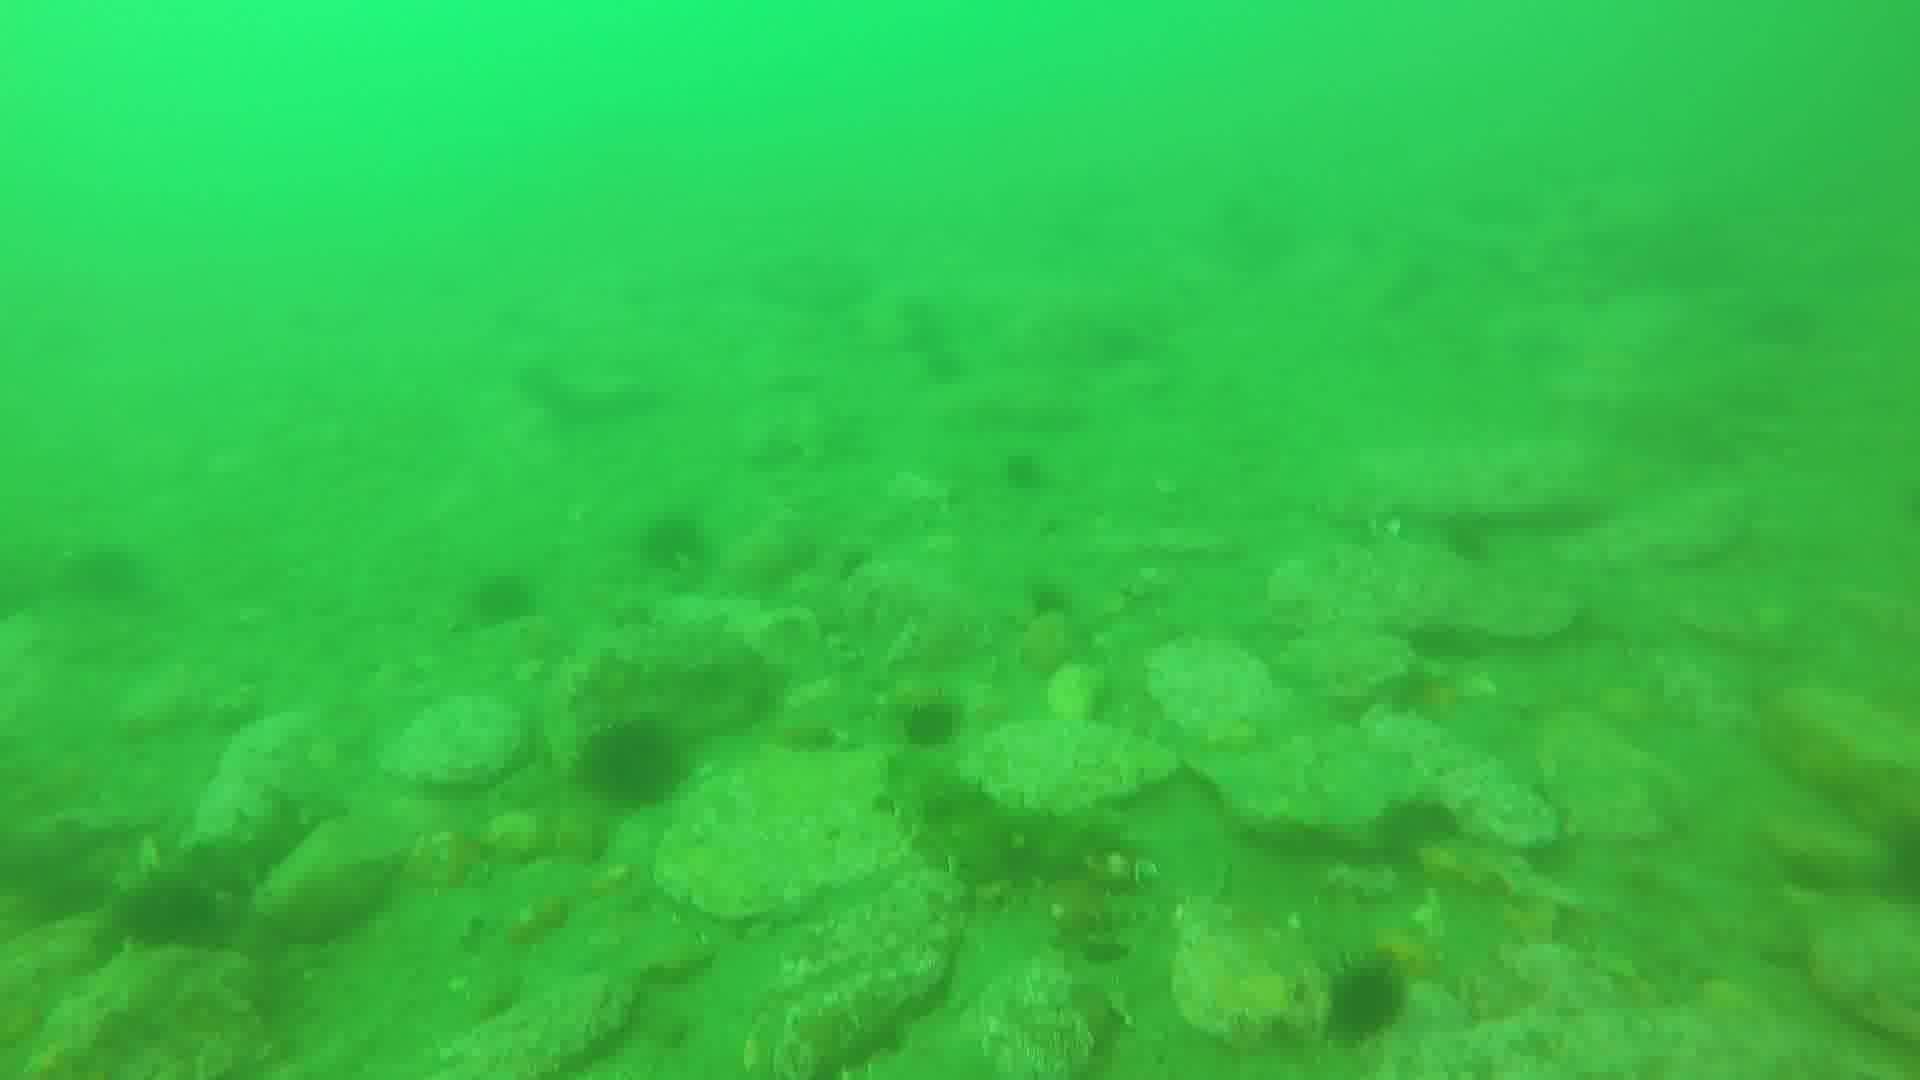echinus: (568, 716, 669, 800), (1308, 947, 1396, 1035), (141, 876, 204, 963), (649, 512, 719, 578), (903, 694, 969, 746), (1007, 447, 1054, 493), (475, 574, 522, 618)
holothurian: (885, 738, 1125, 882), (115, 793, 322, 905)
